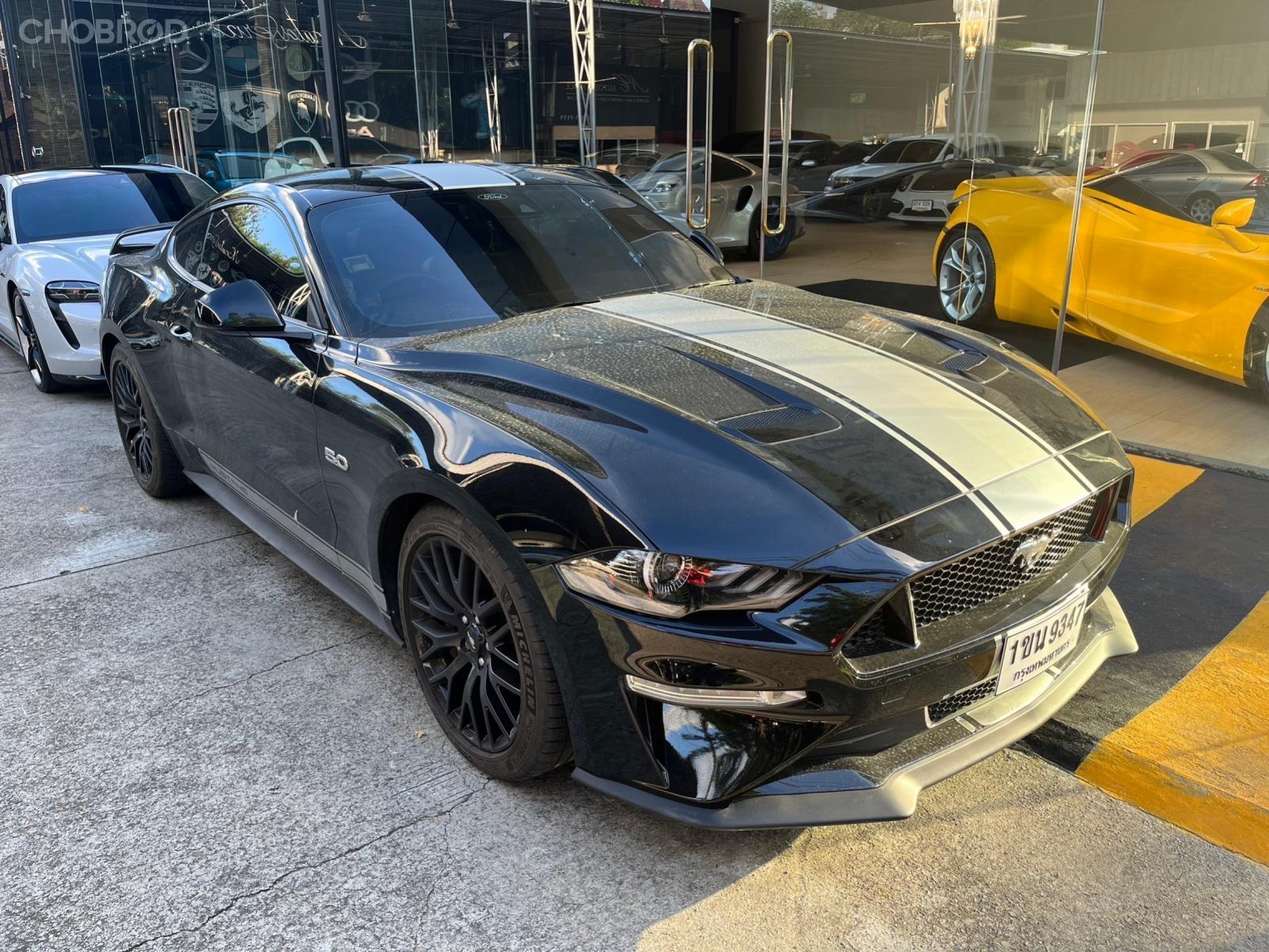license-plate: (996, 585, 1098, 696)
